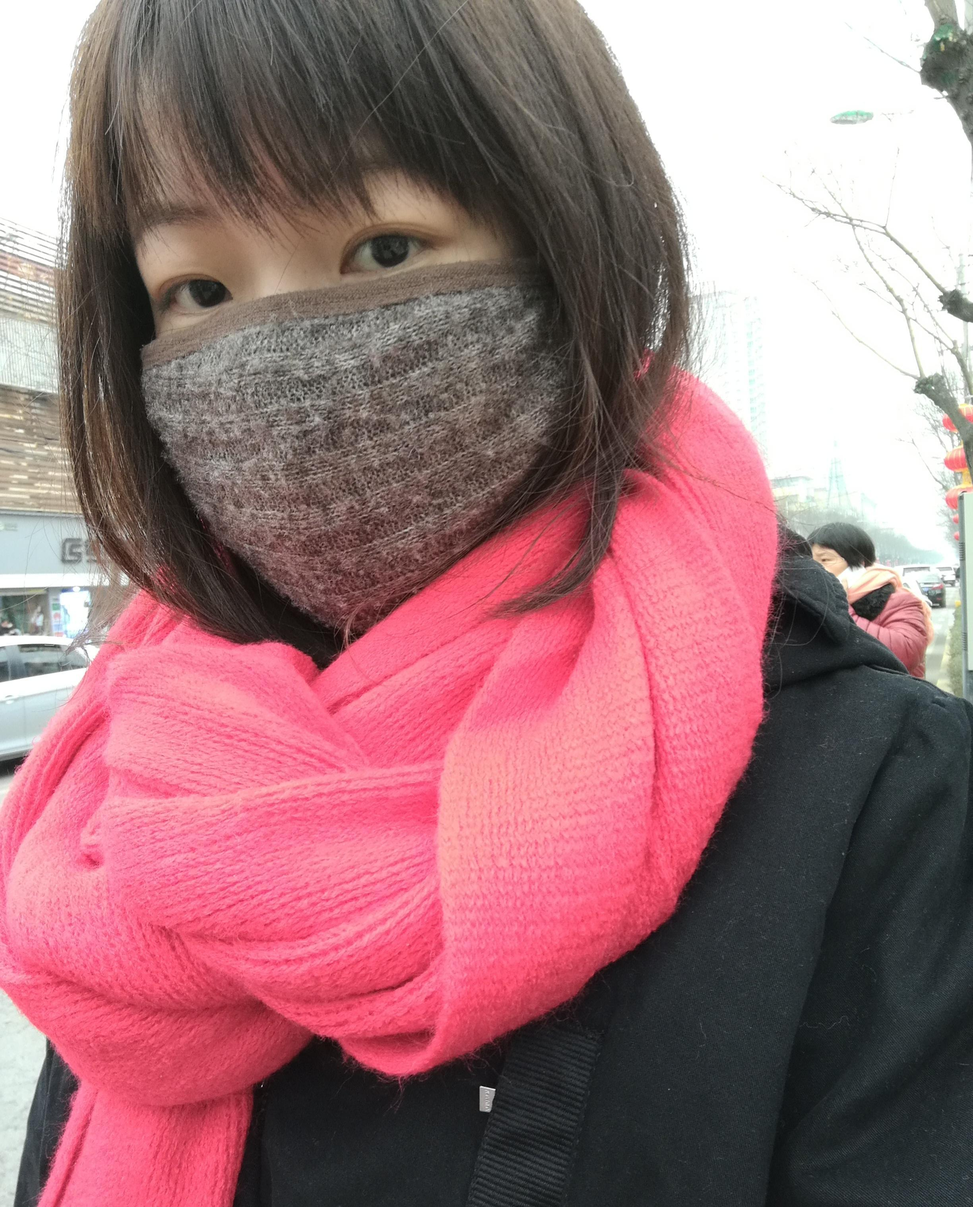OK: (101, 134, 583, 615)
